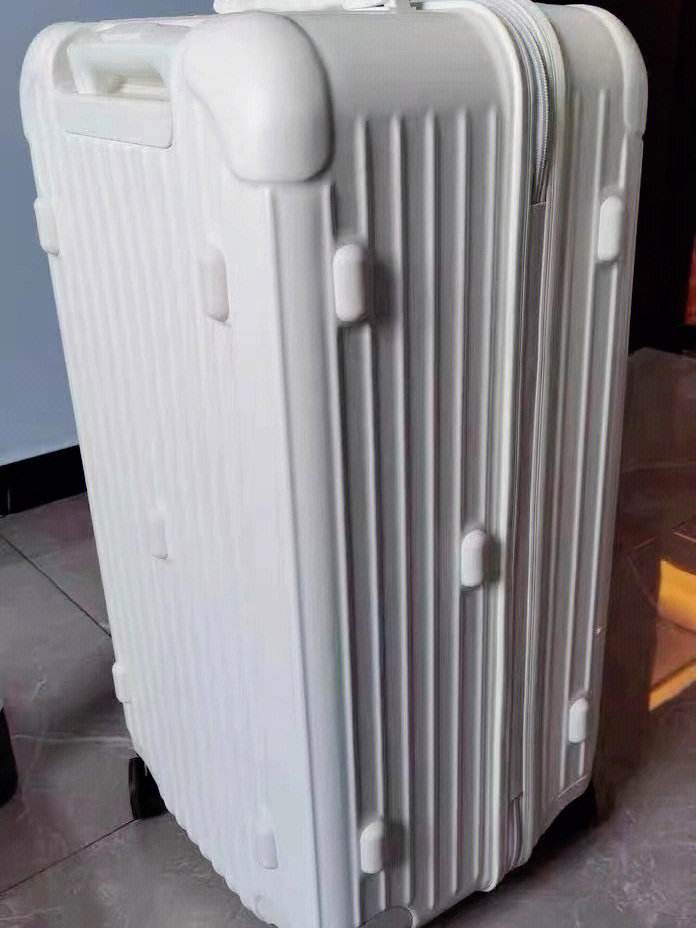box: (19, 5, 647, 928)
